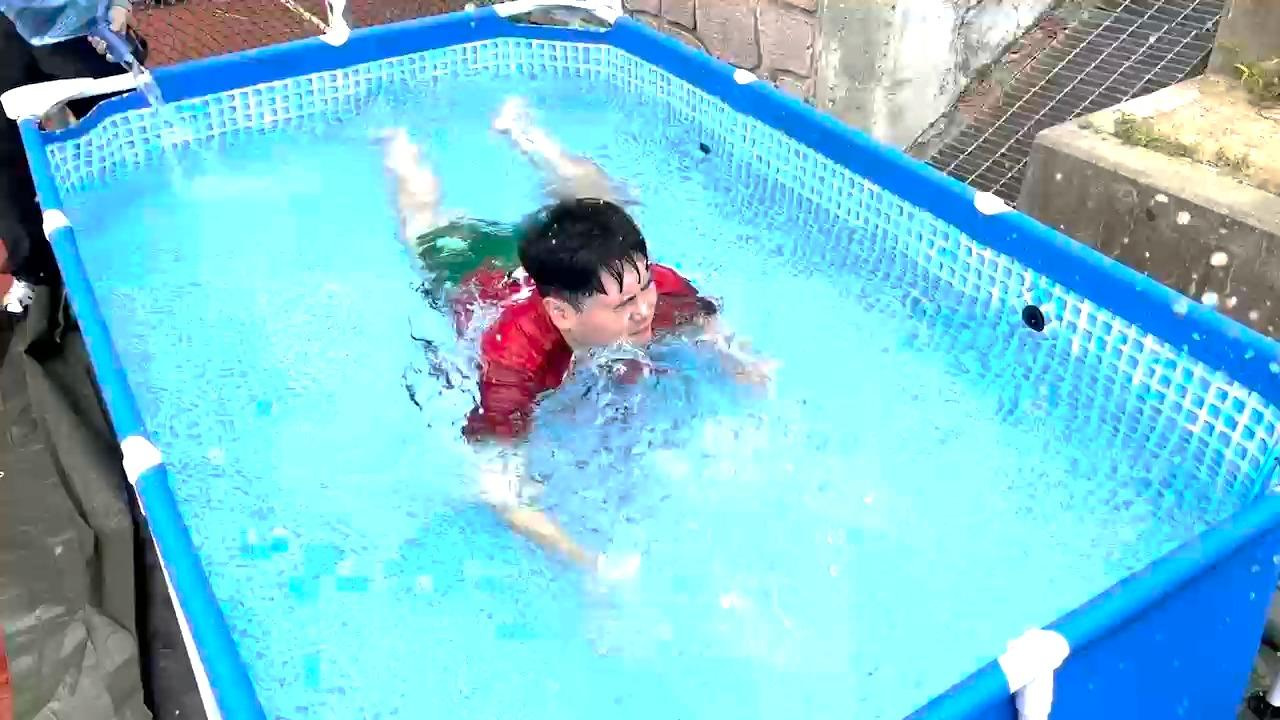Drowning: (323, 39, 811, 600)
